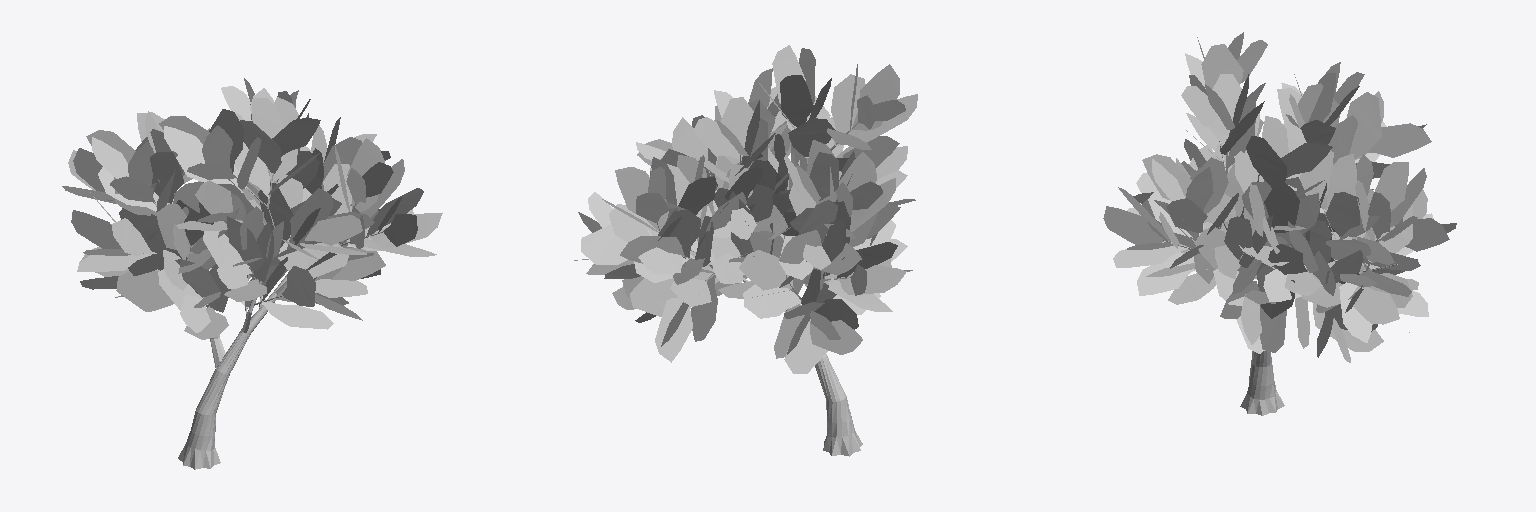
Rendered from hill_tree.obj.
The picture shows the model from 3 angles: view 1: azimuth 30°, elevation 25°; view 2: azimuth 150°, elevation 25°; view 3: azimuth 270°, elevation 25°; orthographic projection.
Visible parts, largest first — view 1: Canopy 1_15 - Default_0, Spline Branch E001_14 - Bark_0; view 2: Canopy 1_15 - Default_0, Spline Branch E001_14 - Bark_0; view 3: Canopy 1_15 - Default_0, Spline Branch E001_14 - Bark_0.
Part boxes in pixels (left/top/right/bottom): Canopy 1_15 - Default_0: left=62, top=78, right=442, bottom=339; Spline Branch E001_14 - Bark_0: left=178, top=272, right=288, bottom=469; Canopy 1_15 - Default_0: left=574, top=45, right=917, bottom=373; Spline Branch E001_14 - Bark_0: left=785, top=306, right=862, bottom=456; Canopy 1_15 - Default_0: left=1103, top=32, right=1456, bottom=362; Spline Branch E001_14 - Bark_0: left=1240, top=284, right=1284, bottom=415.
Bounding box in the file's own units: 489 × 555 × 486.